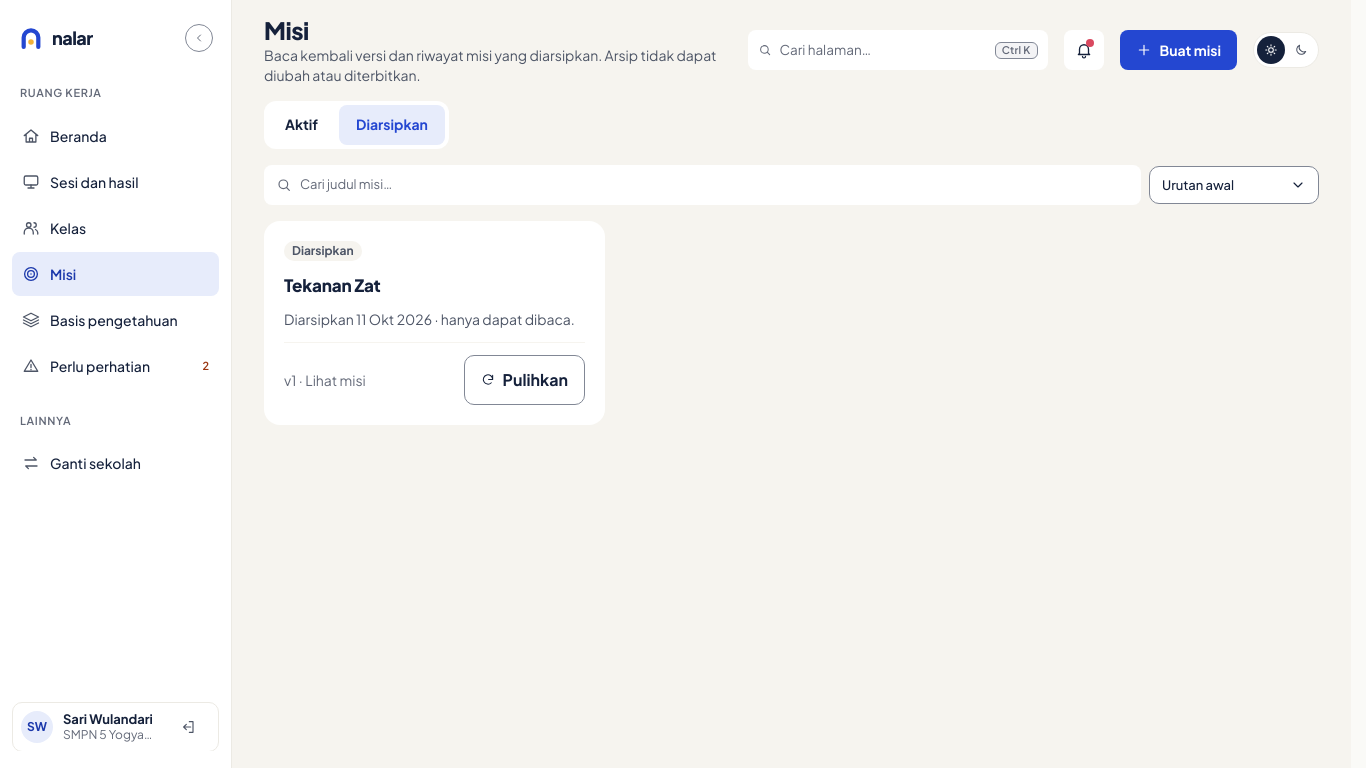
Scenario: signed-in teacher pages › tells the teacher to restore the topic first when the archived topic blocks restoring a mission
The image size is (1366, 768).
Click the button "Pulihkan" at (524, 380), box x1=464 y1=355 x2=585 y2=405
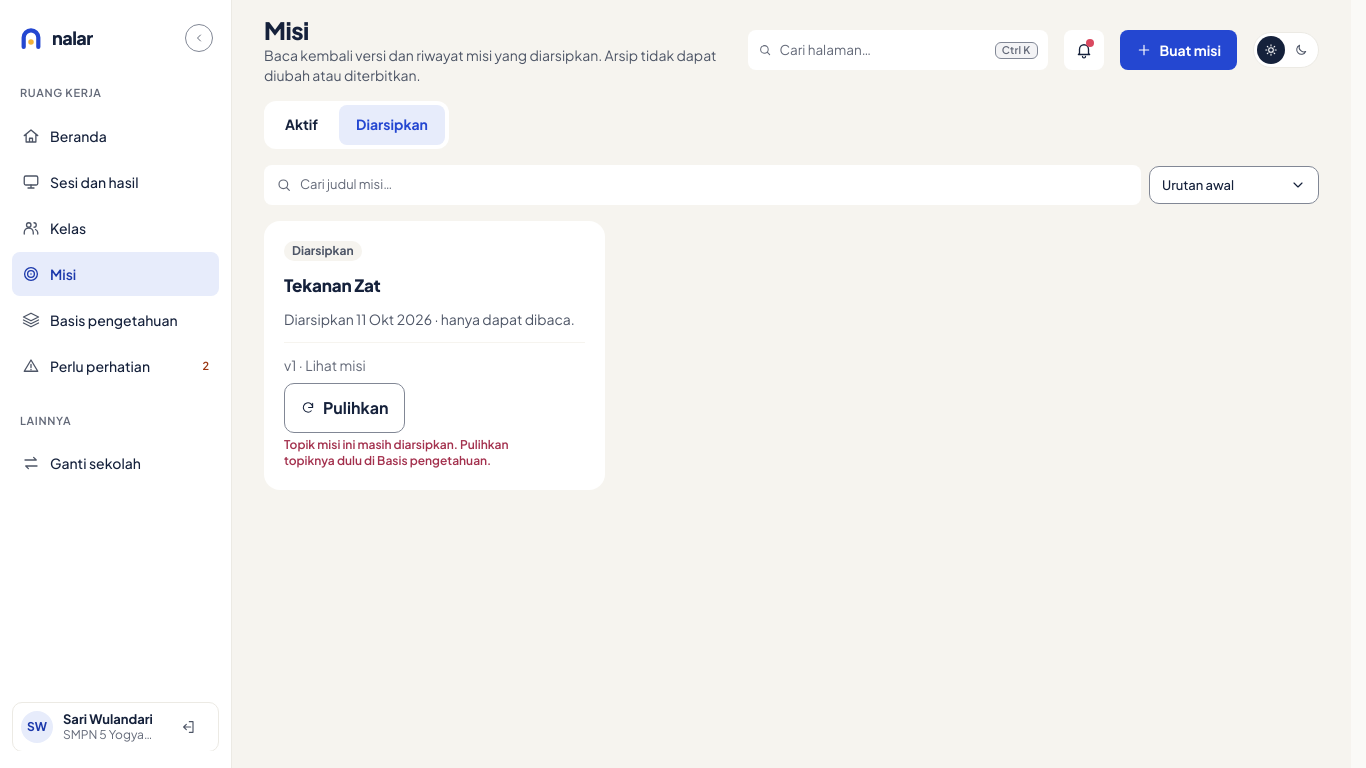
Result: the message shows "Topik misi ini masih diarsipkan" at x1=284 y1=437 x2=508 y2=468
